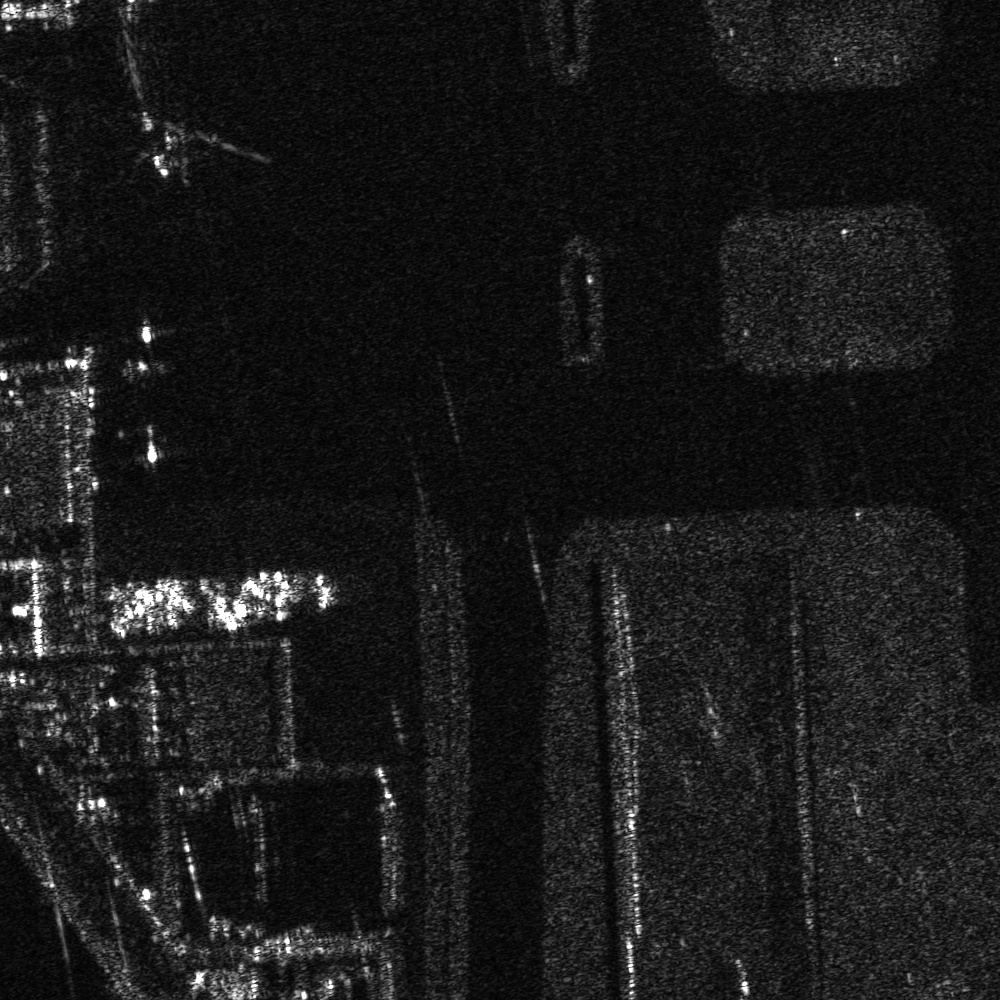A220: (134, 97, 218, 194)
other: (194, 560, 264, 642), (246, 553, 313, 625), (130, 574, 188, 640)
